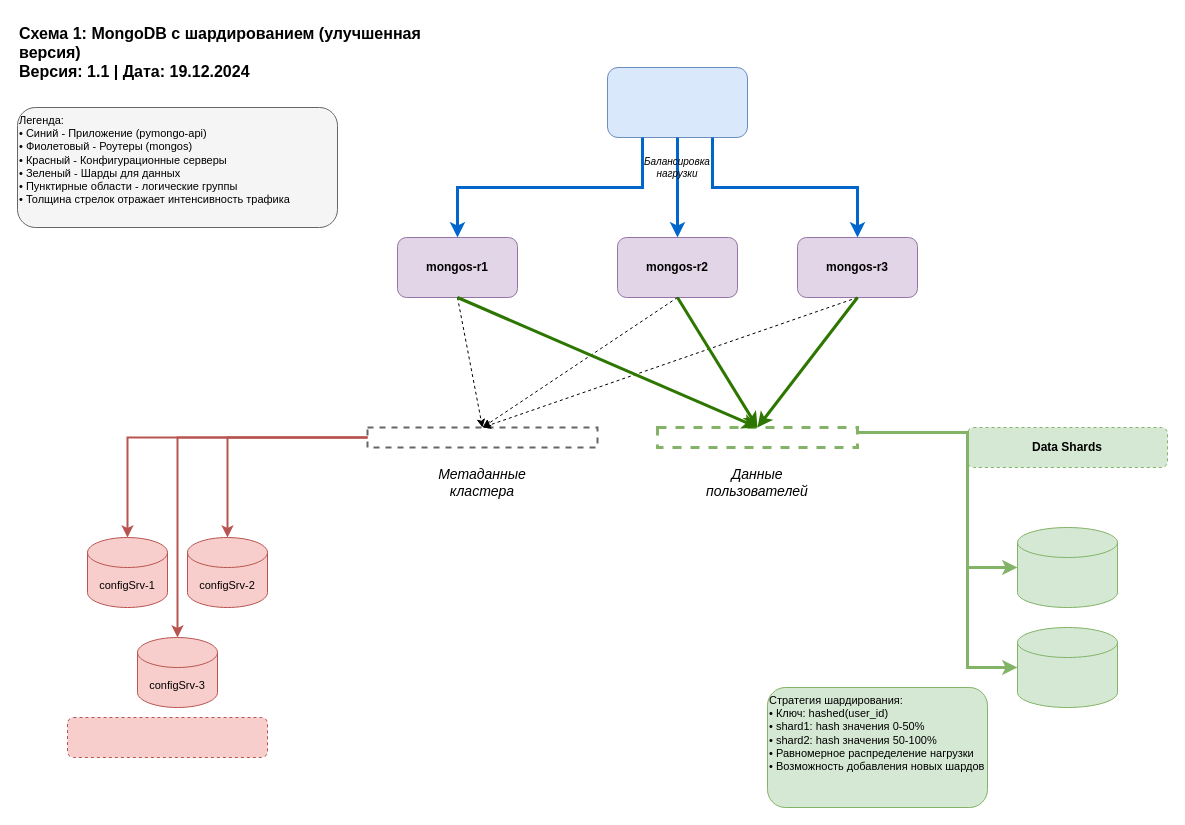
Some shapes in this 1185 by 825 pixel diagram are drawn without their labels. Here are the shapes that lost their labels. From the top down, the centre of each, then its label:
point 677,102: pymongo-api
point 1067,567: shard1 (user_id: 0-50%)
point 1067,667: shard2 (user_id: 50-100%)
point 167,737: Config Servers
